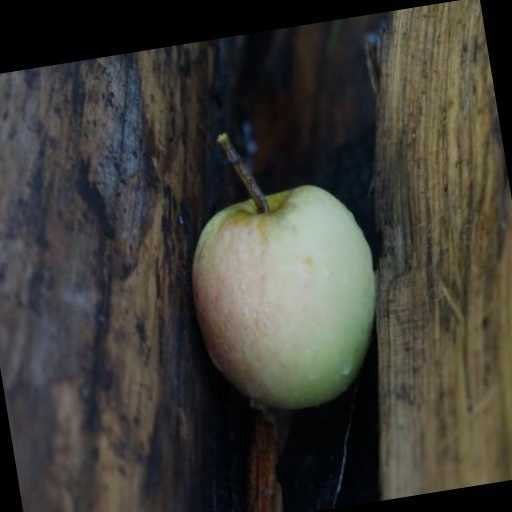fruit: (192, 135, 374, 408)
